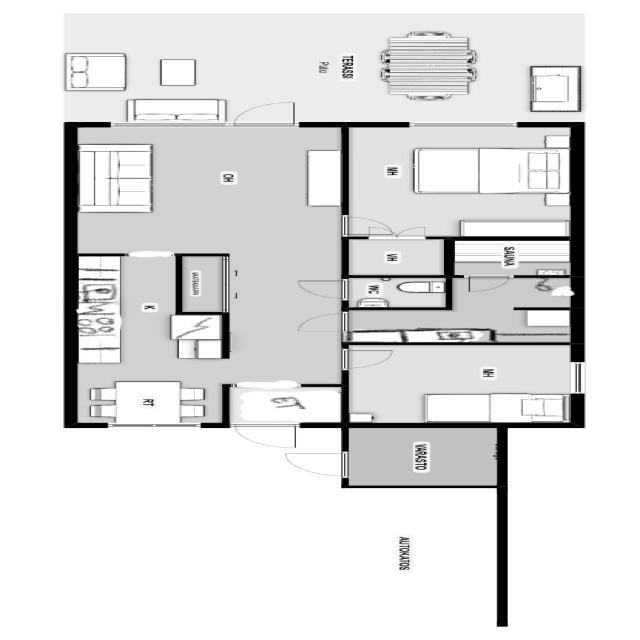door: (228, 95, 309, 137), (201, 418, 298, 448), (278, 446, 359, 480), (332, 347, 399, 372), (288, 275, 351, 300), (327, 217, 399, 238), (359, 226, 441, 240), (294, 313, 344, 332), (462, 274, 512, 292)
window: (101, 120, 309, 134), (403, 116, 549, 133), (554, 361, 610, 396), (82, 418, 204, 432)
zone: (58, 123, 354, 257), (330, 121, 589, 248), (69, 254, 228, 427), (343, 346, 572, 426), (335, 307, 570, 346), (446, 240, 567, 275), (351, 238, 446, 278), (343, 276, 454, 306)
